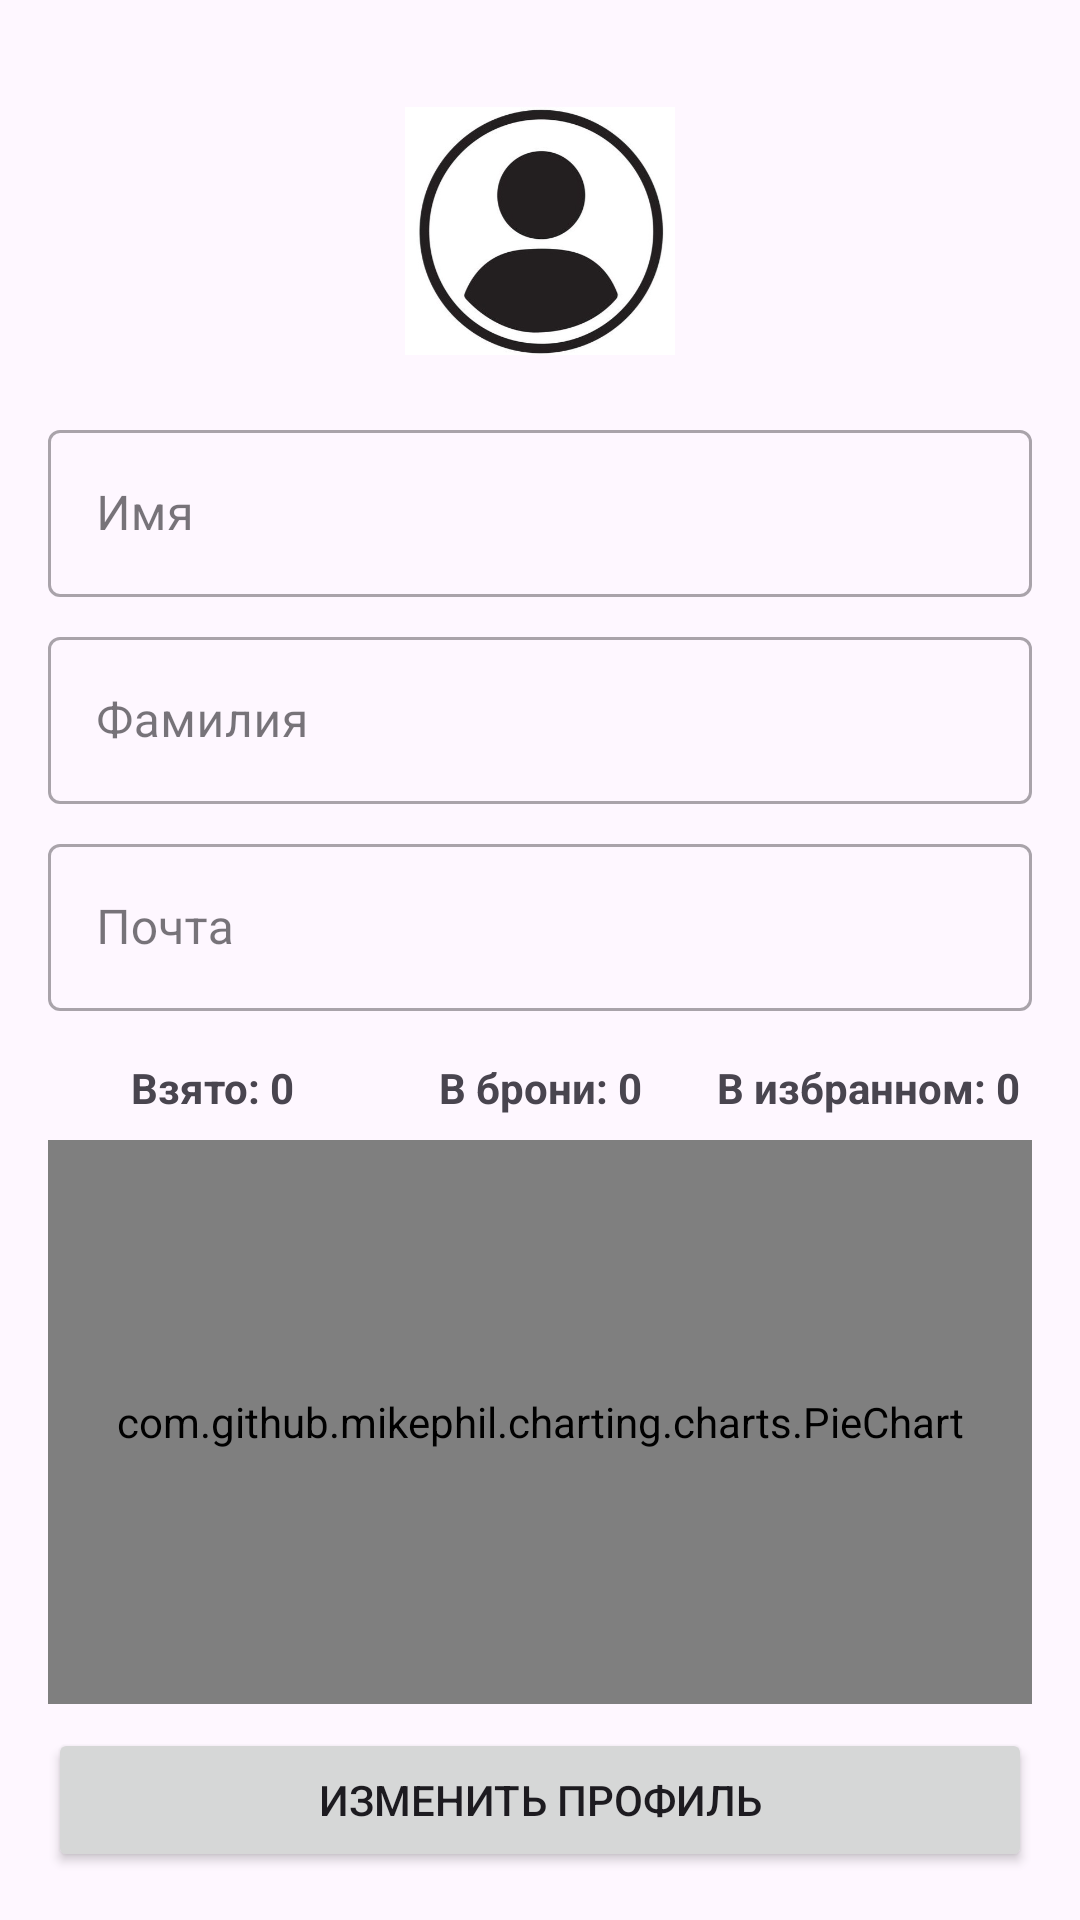

Locate icon controls on the screen. Image size 1080×1920, boxes as box=[x1, y1, x2, y2].
profileicon: box=[419, 110, 663, 354]
